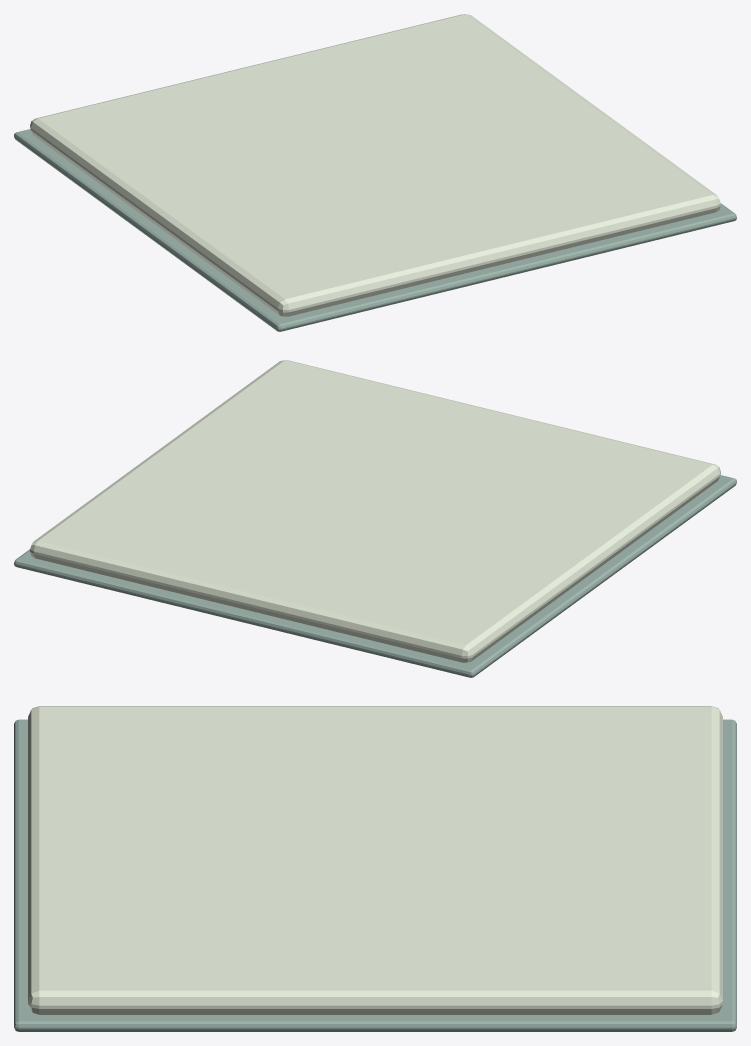
Rendered from board-base.glb.
3 renders of one model, top to bottom at view 1: azimuth 30°, elevation 25°; view 2: azimuth 150°, elevation 25°; view 3: azimuth 270°, elevation 25°, orthographic. The views are drawn at different scales.
Parts seen in each view (by area): view 1: mesh_board_base_sage, mesh_board_base_dark; view 2: mesh_board_base_sage, mesh_board_base_dark; view 3: mesh_board_base_sage, mesh_board_base_dark.
Part boxes in pixels (left/top/right/bottom): mesh_board_base_sage: left=30, top=14, right=720, bottom=316; mesh_board_base_dark: left=14, top=129, right=736, bottom=331; mesh_board_base_sage: left=30, top=360, right=720, bottom=662; mesh_board_base_dark: left=14, top=475, right=736, bottom=677; mesh_board_base_sage: left=28, top=706, right=722, bottom=1014; mesh_board_base_dark: left=14, top=719, right=736, bottom=1031.
Size of the model in its own units: 7.7 by 0.38 by 7.7.
